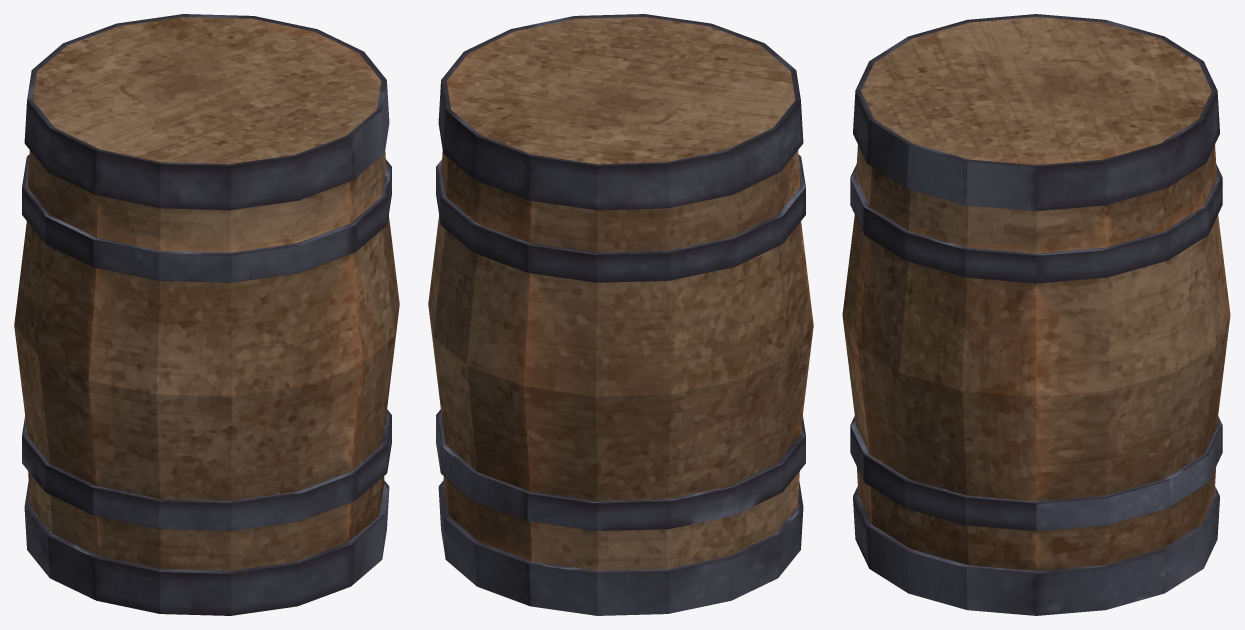
The model's file is Barrel_01.fbx.
3 renders of one model, left to right at view 1: azimuth 30°, elevation 25°; view 2: azimuth 150°, elevation 25°; view 3: azimuth 270°, elevation 25°, orthographic.
Parts seen in each view (by area): view 1: Barrel_01; view 2: Barrel_01; view 3: Barrel_01.
Boxes of the visible parts, x1,y1,x2,y2 form: Barrel_01: [14, 14, 399, 615]; Barrel_01: [428, 14, 813, 615]; Barrel_01: [842, 14, 1230, 615].
Size of the model in its own units: 50.58 by 64.57 by 50.58.
Materials: 2 (2 with a texture image).
